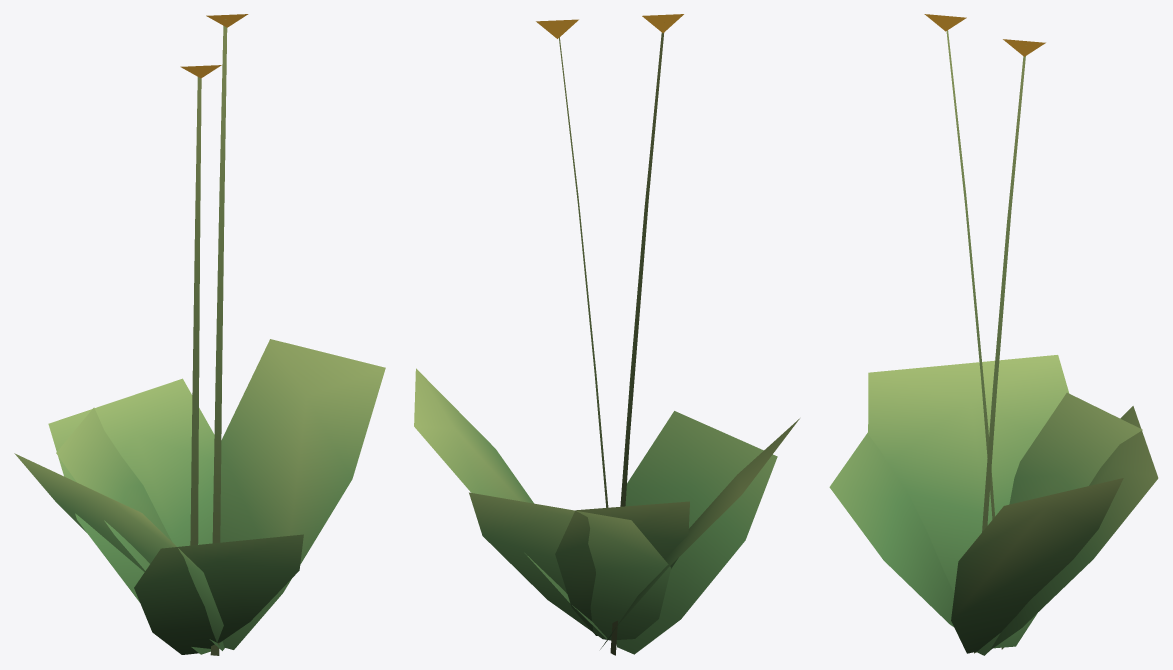
The model's file is BroadPlantainPatch_LOD0.glb.
The picture shows the model from 3 angles, left to right: view 1: azimuth 30°, elevation 25°; view 2: azimuth 150°, elevation 25°; view 3: azimuth 270°, elevation 25°; orthographic projection. The views are drawn at different scales.
Visible parts, largest first — view 1: BroadPlantainPatch_LOD0; view 2: BroadPlantainPatch_LOD0; view 3: BroadPlantainPatch_LOD0.
Part boxes in pixels (x1,y1,x2,y2): BroadPlantainPatch_LOD0: [14, 14, 385, 655]; BroadPlantainPatch_LOD0: [414, 14, 799, 655]; BroadPlantainPatch_LOD0: [829, 14, 1158, 655].
Bounding box in the file's own units: 0.1023 × 0.1735 × 0.0827.
